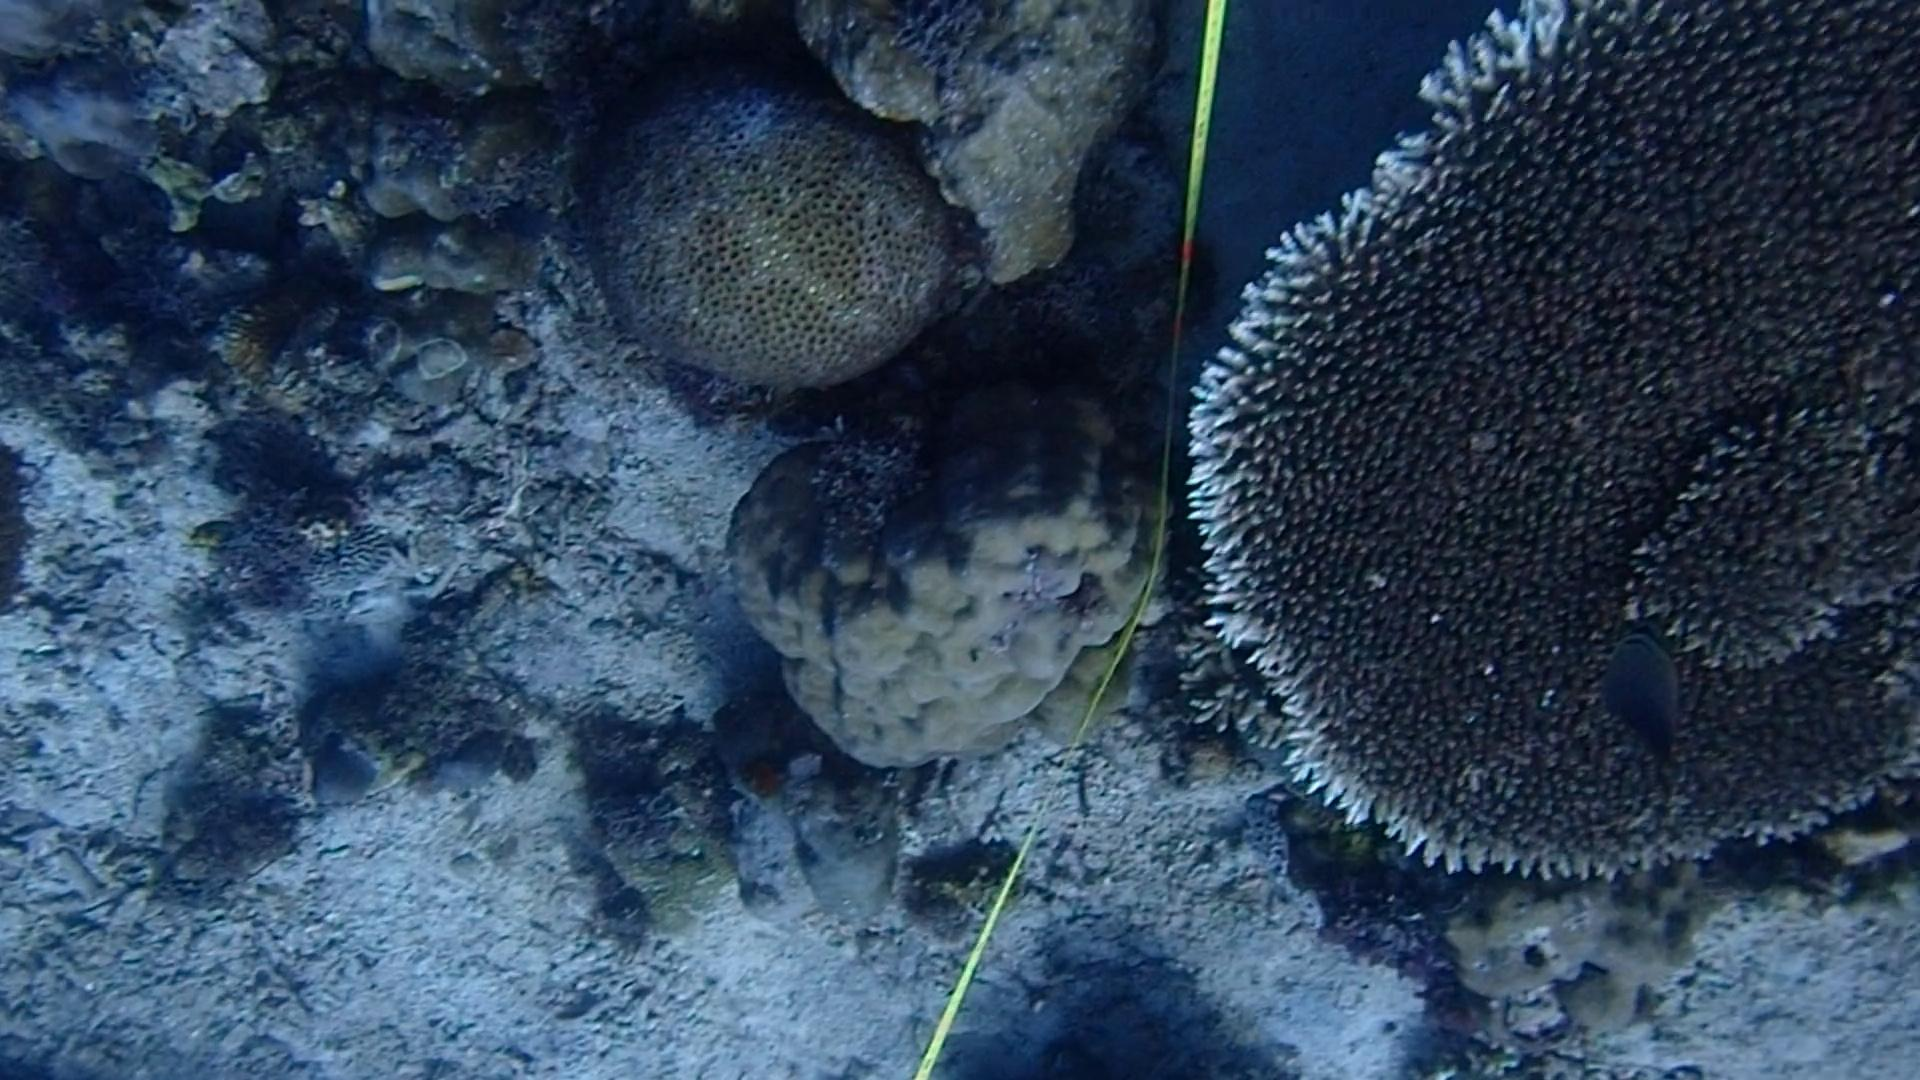Dark Blue Dory: (1598, 630, 1700, 775)
Light Fish: (484, 190, 564, 249)
